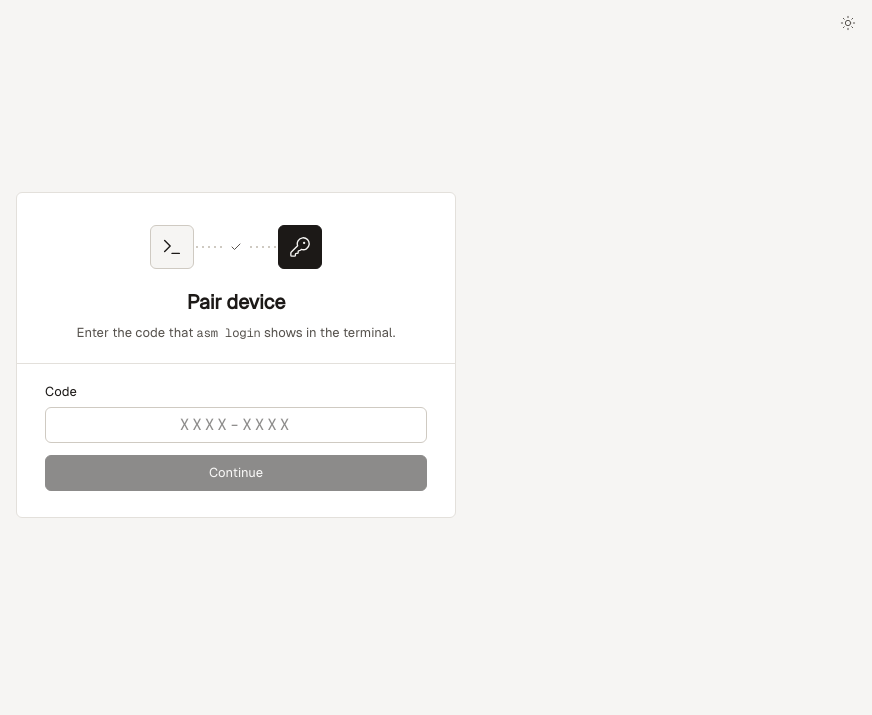
Test: activate page › uppercases and formats the code, previews the device and approves
Step 1. Type "bcdfghjk" into the field labelled "Code" → point(236, 425), box [56,413,416,437]
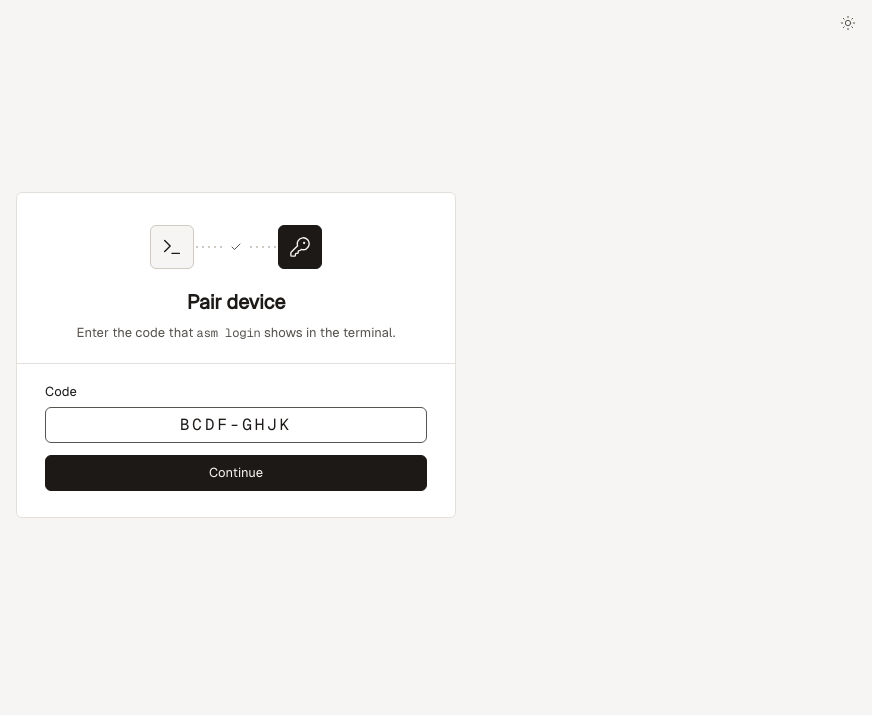
Now the field labelled "Code" holds "BCDF-GHJK", box [56,413,416,437]
Step 2. Click the button "Continue" → point(236, 473), box [45,455,427,491]
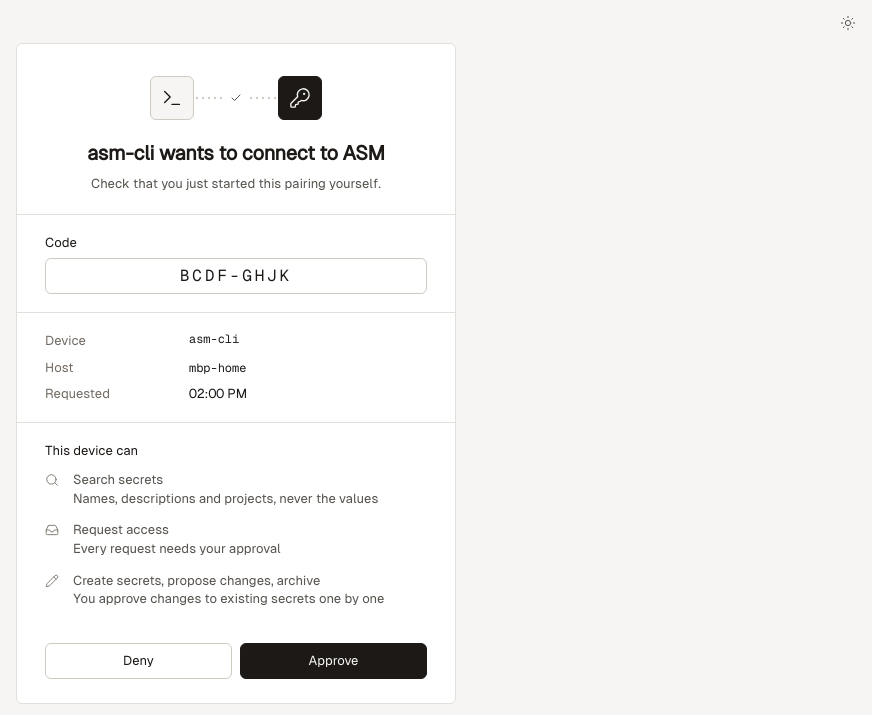
Now the heading "asm-cli wants to connect to ASM" is shown, box [87,142,385,164]
Step 3. Click the button "Approve" → point(334, 661), box [240,643,427,679]
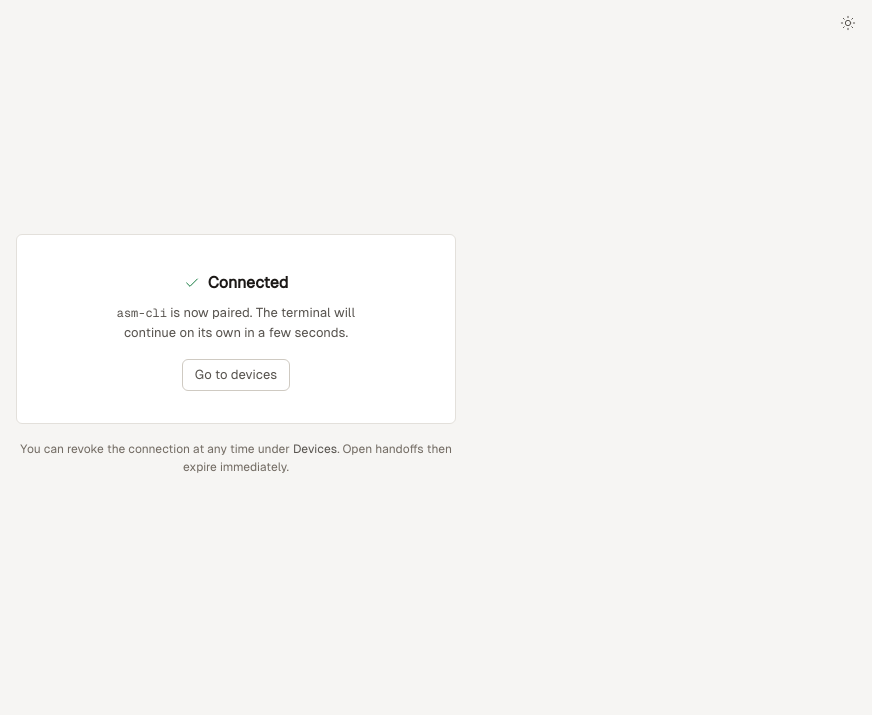
Now the heading "Connected" is shown, box [184,271,288,295]
